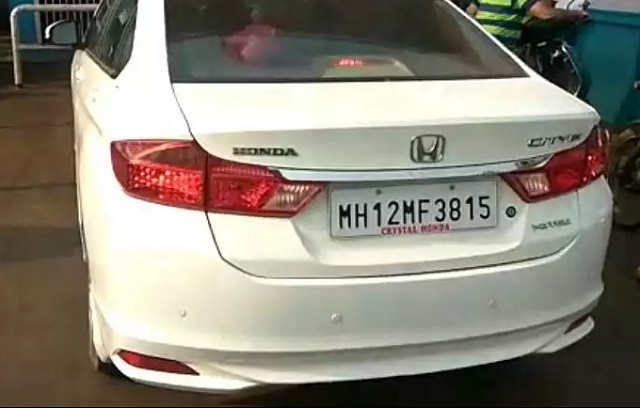licenseplate: (324, 179, 502, 230)
